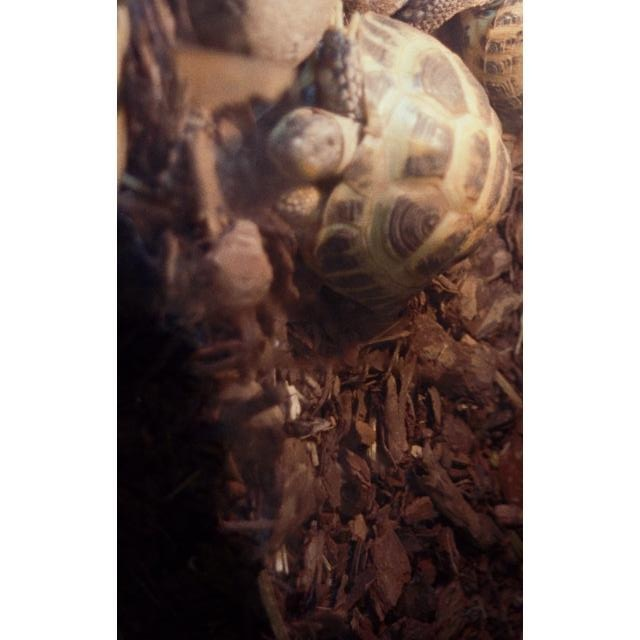turtle: (259, 9, 513, 324)
